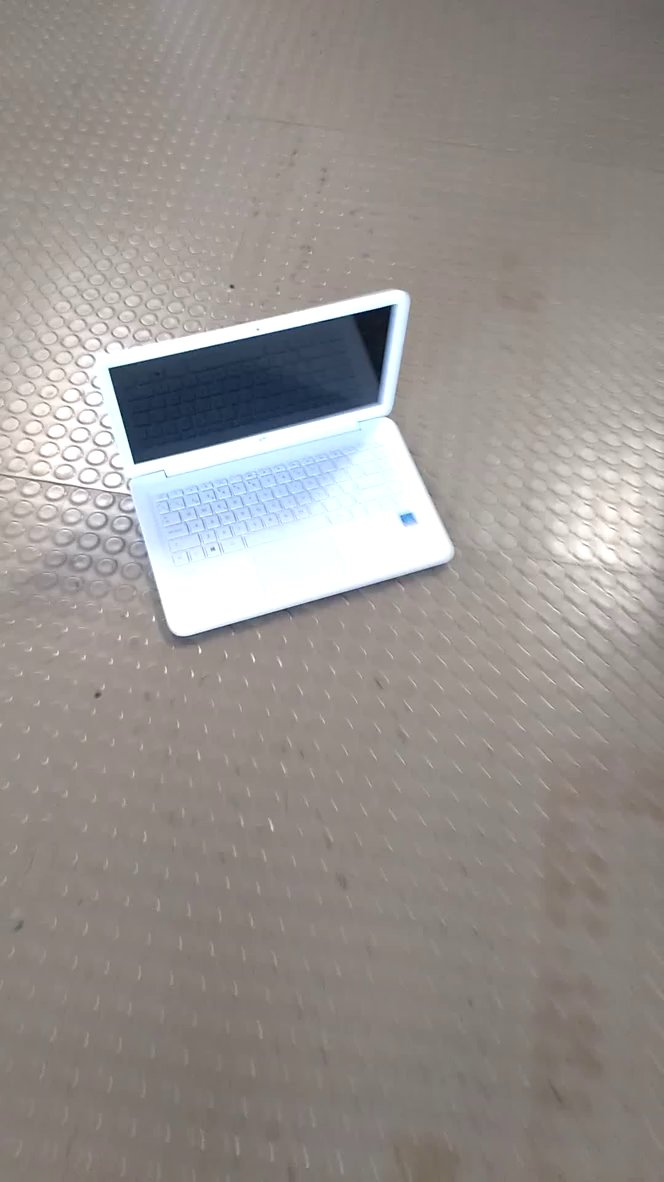laptop: (93, 280, 459, 645)
